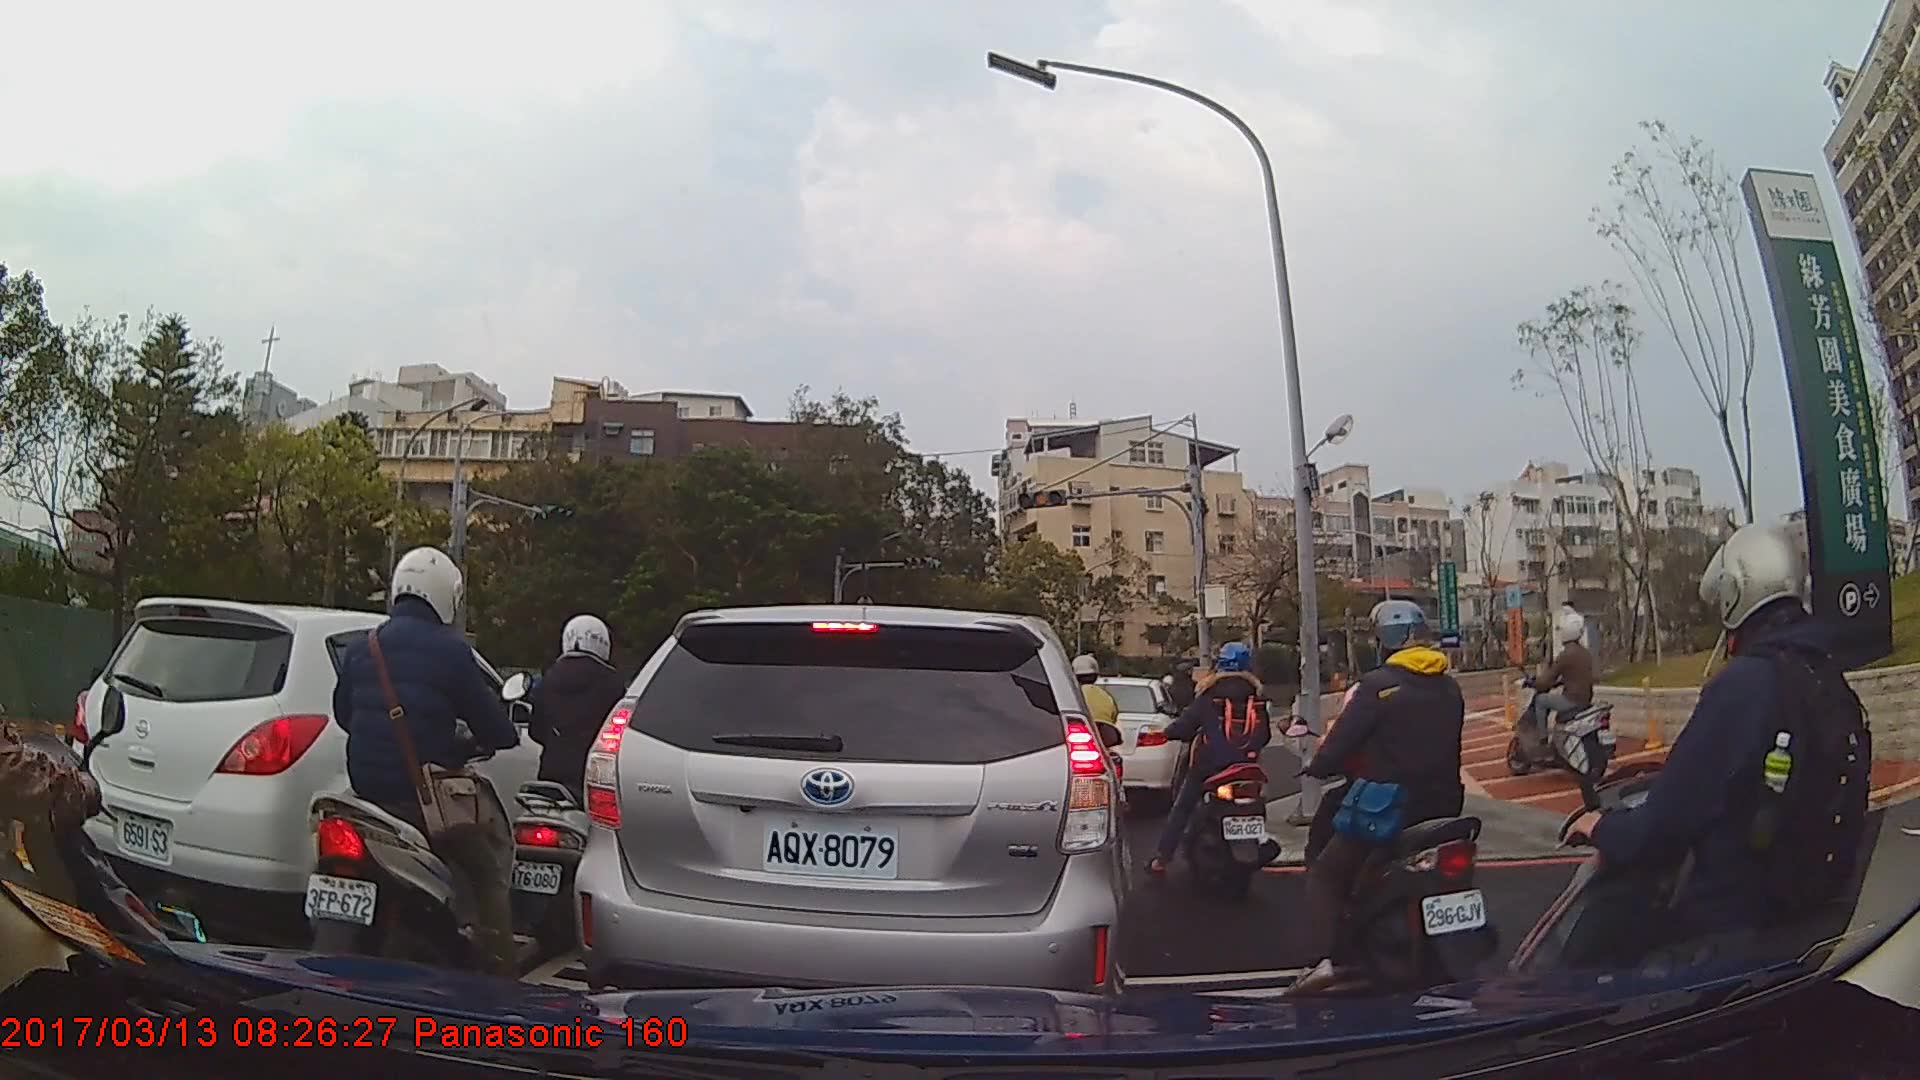rider: (1505, 517, 1882, 1055), (299, 545, 531, 1000), (1281, 593, 1497, 1005), (504, 614, 663, 953), (1143, 642, 1286, 902), (1502, 608, 1621, 785), (1038, 654, 1132, 840)
vehicle: (574, 602, 1135, 1026), (64, 595, 579, 920), (1063, 676, 1192, 813)
